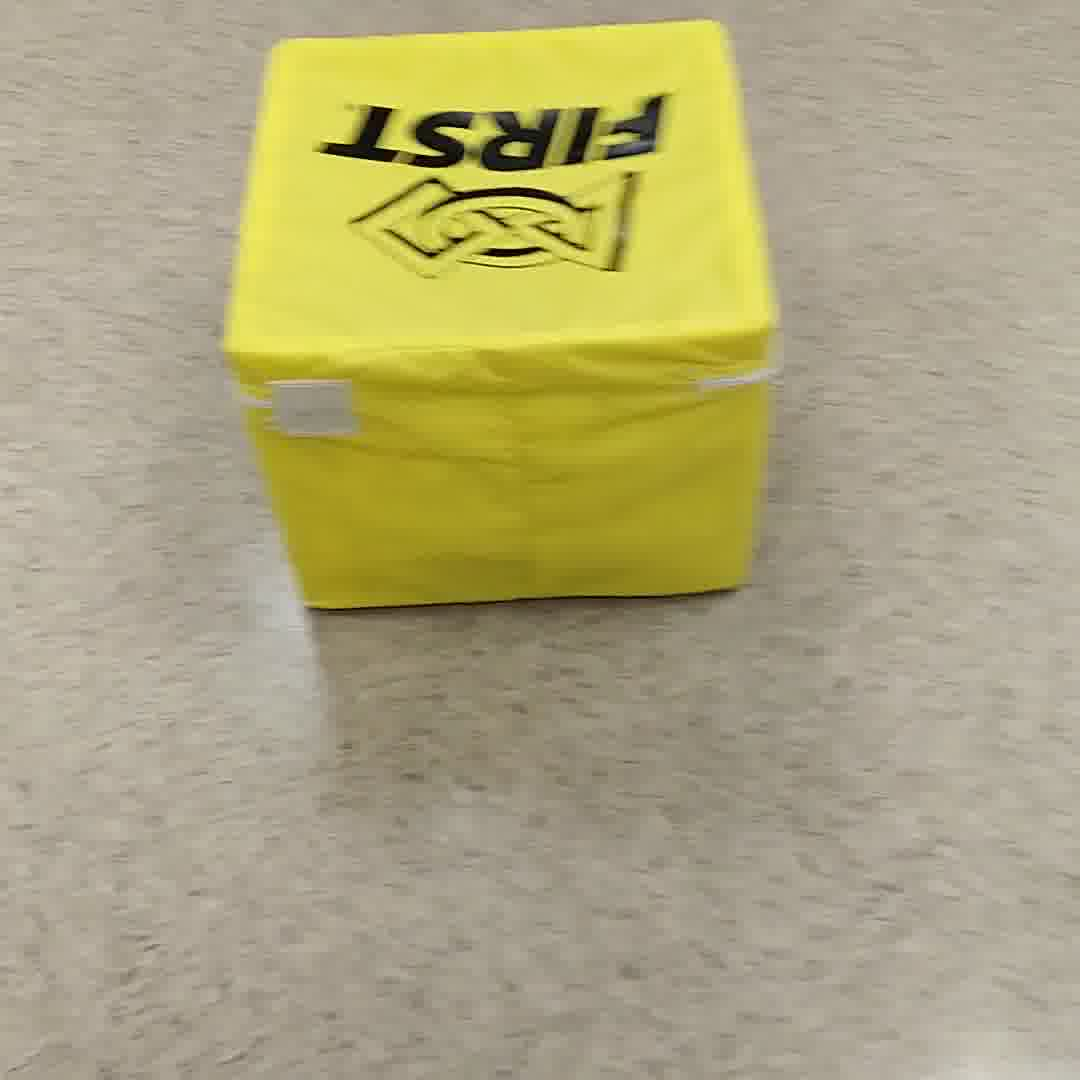box: (220, 12, 784, 601)
